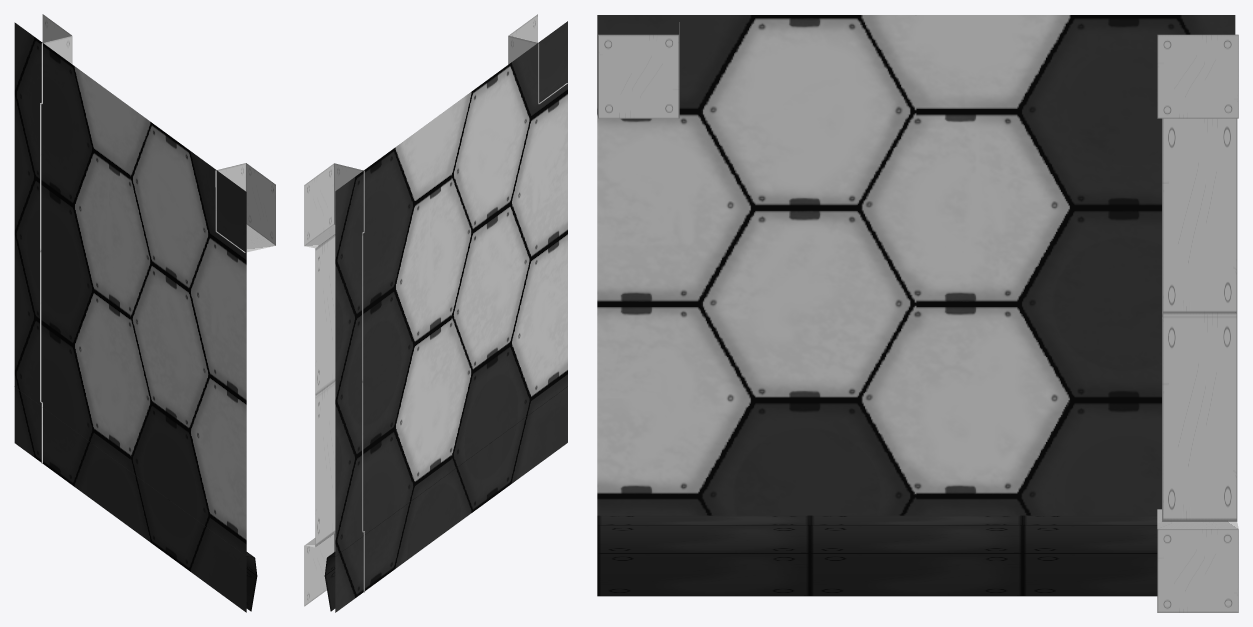
Rendered from Wall_BottomRightCorner.fbx.
3 views of the same model, side by side, from view 1: azimuth 30°, elevation 25°; view 2: azimuth 150°, elevation 25°; view 3: azimuth 270°, elevation 25° (orthographic). The views are drawn at different scales.
Visible parts, largest first — view 1: pPlane113; view 2: pPlane113; view 3: pPlane113.
Part boxes in pixels (bbox=[...]): pPlane113: bbox=[14, 14, 275, 612]; pPlane113: bbox=[304, 14, 567, 612]; pPlane113: bbox=[597, 15, 1238, 612].
Size of the model in its own units: 0.1534 by 2 by 2.01.
